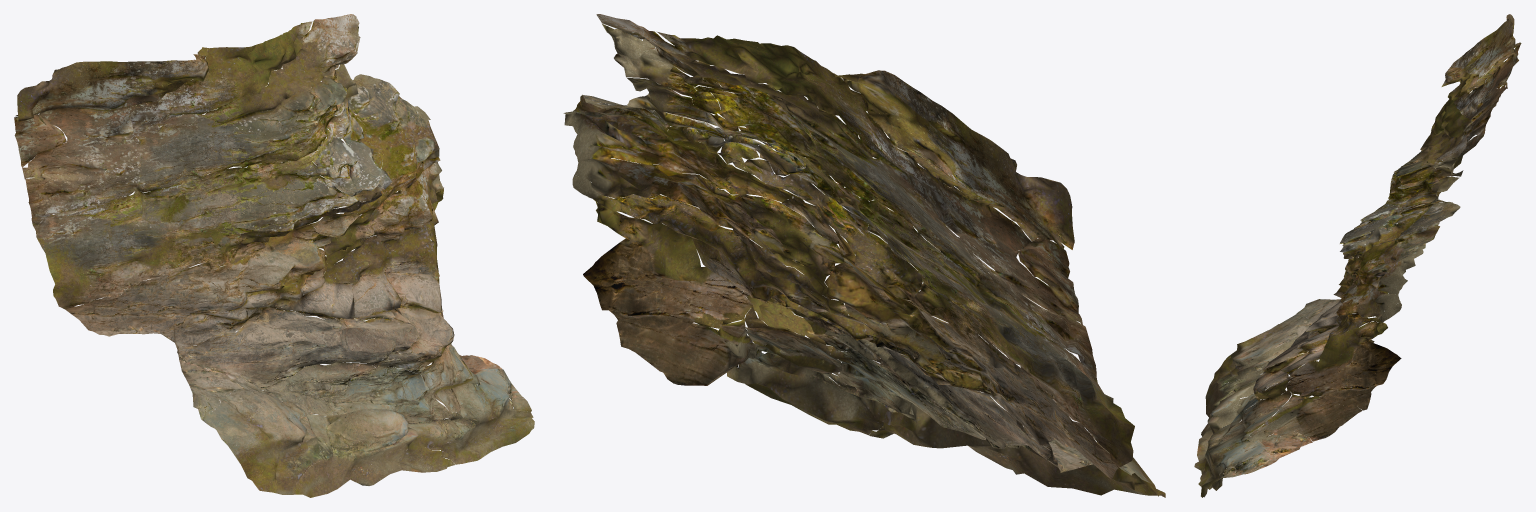
Rendered from rock_face_02.glb.
3 renders of one model, left to right at view 1: azimuth 30°, elevation 25°; view 2: azimuth 150°, elevation 25°; view 3: azimuth 270°, elevation 25°, orthographic. The views are drawn at different scales.
Parts seen in each view (by area): view 1: rock_face_02; view 2: rock_face_02; view 3: rock_face_02.
Part boxes in pixels (x1,y1,x2,y2): rock_face_02: (14,14,534,497); rock_face_02: (563,14,1165,497); rock_face_02: (1194,14,1521,497).
Bounding box in the file's own units: 2.71 × 2.48 × 2.13.
Materials: 1 (1 with a texture image).
